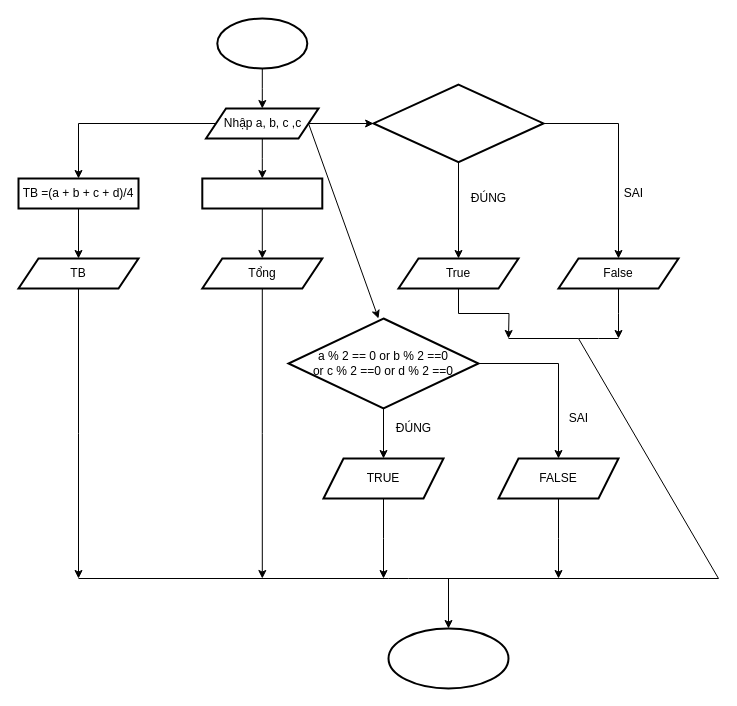
This 737x706 diagram has some shape labels left out. The centre of each missing label's shape, as x and y in pixels:
a >= 0 and b >= 0 and c >= 0 and d >= 0: point (458, 123)
END: point (448, 658)
START: point (262, 43)
Tổng a, b, c, d: point (262, 193)
